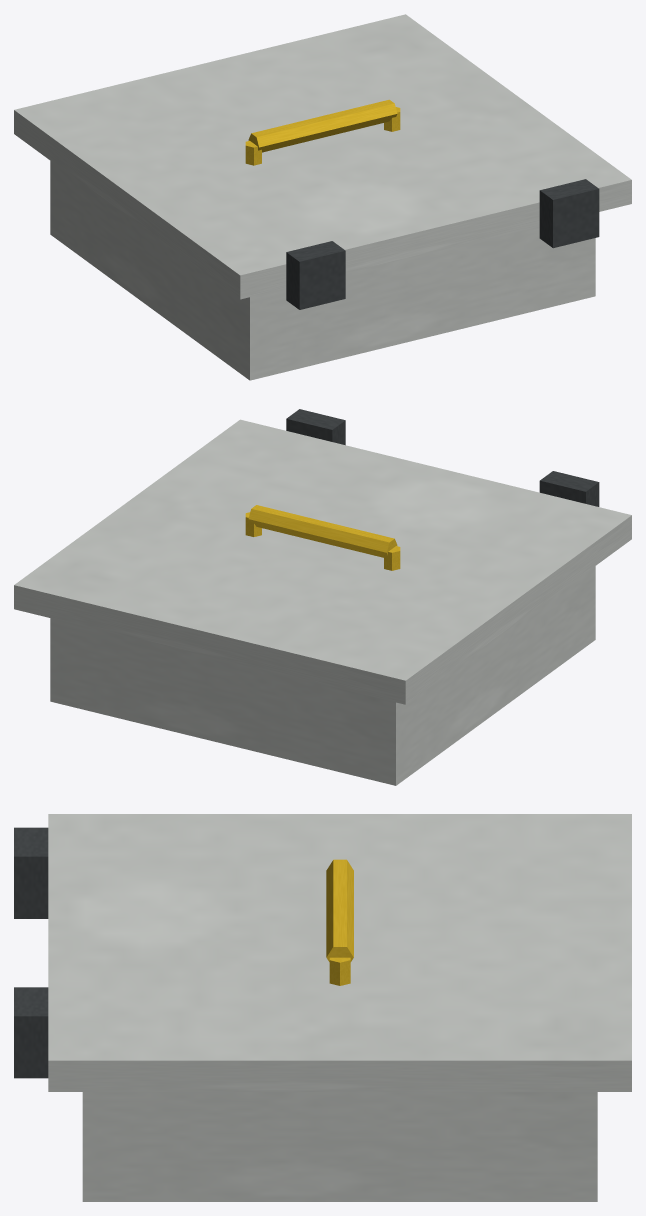
The model's file is body.obj.
3 views of the same model, one above another, from view 1: azimuth 30°, elevation 25°; view 2: azimuth 150°, elevation 25°; view 3: azimuth 270°, elevation 25° (orthographic). The views are drawn at different scales.
Bounding box in the file's own units: 0.68 × 0.2439 × 0.72.
